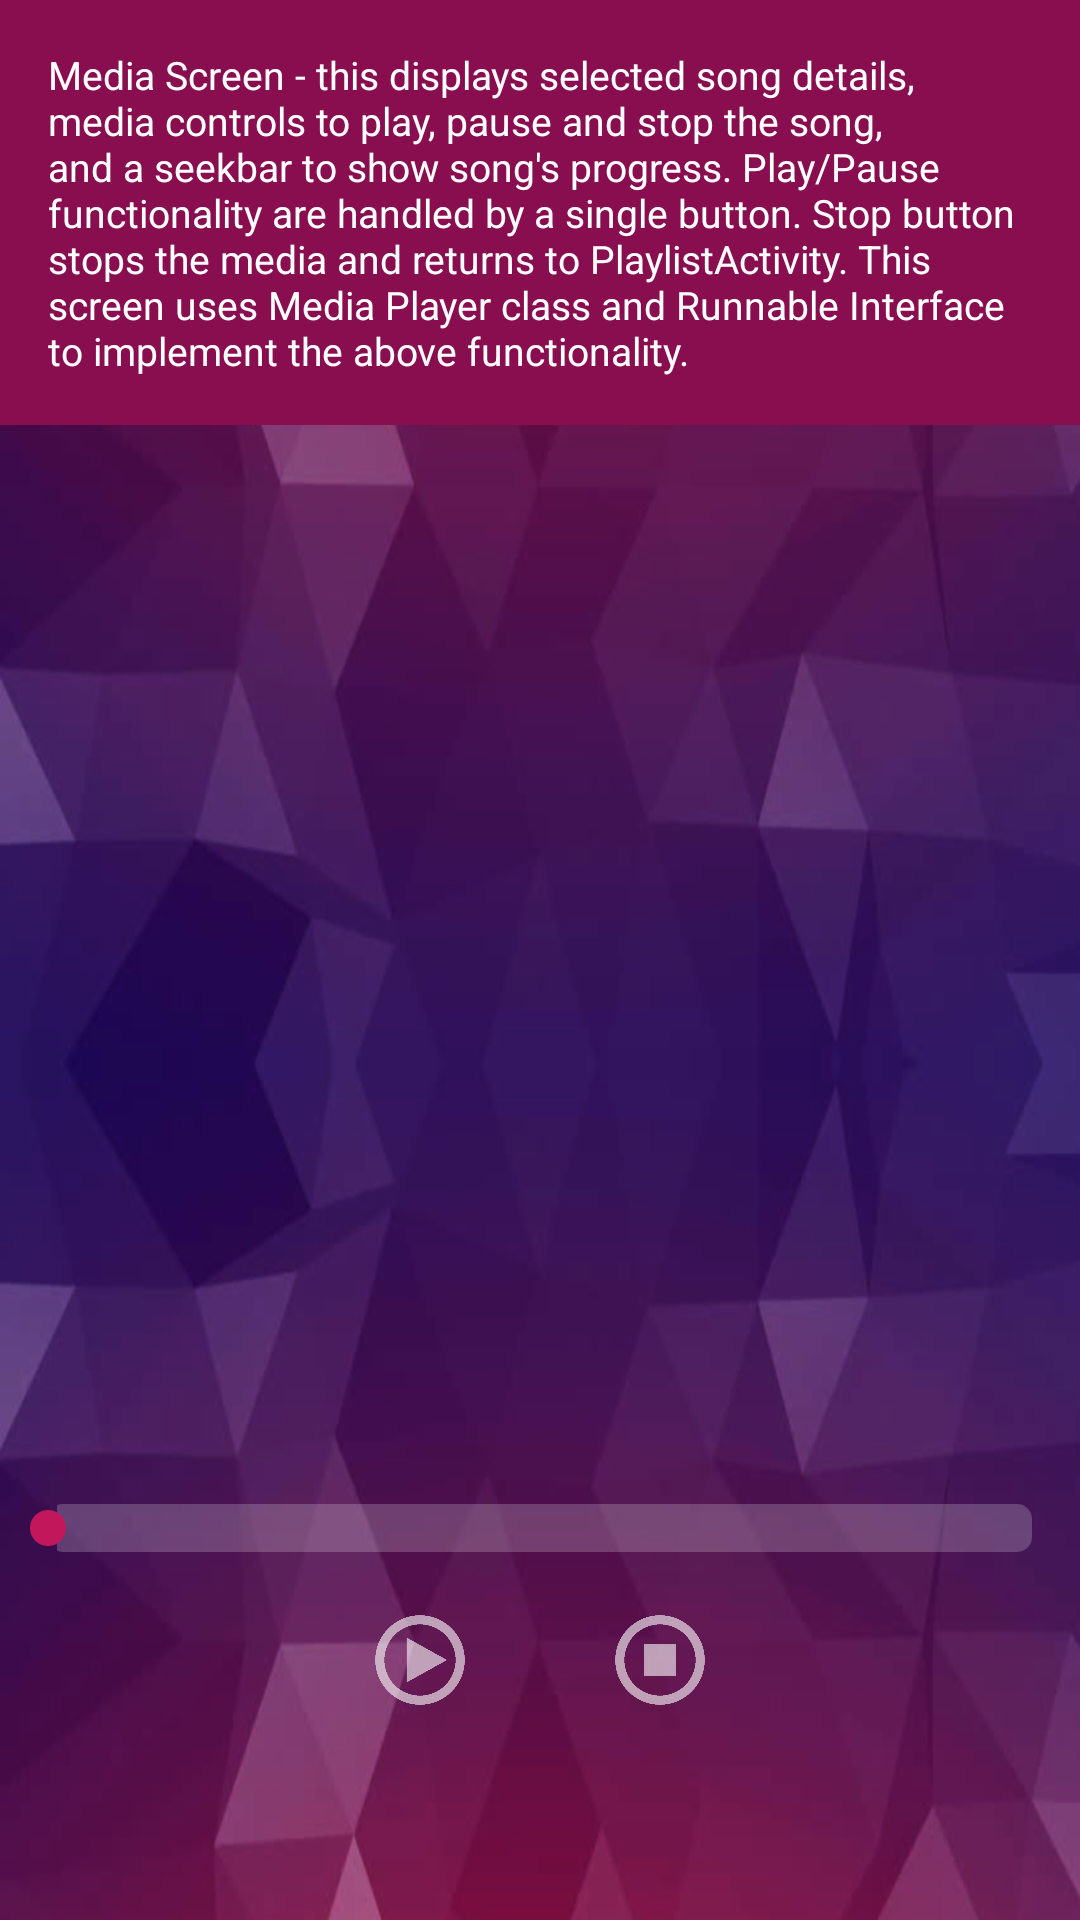

Icon click points for this 1080 × 1920 phone screenshot, format (x,y):
play: (420,1660)
stop: (660,1660)
